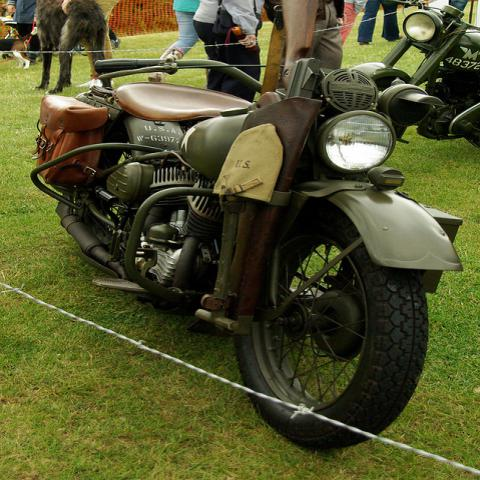motorcycle: (30, 9, 479, 428), (422, 30, 480, 102)
